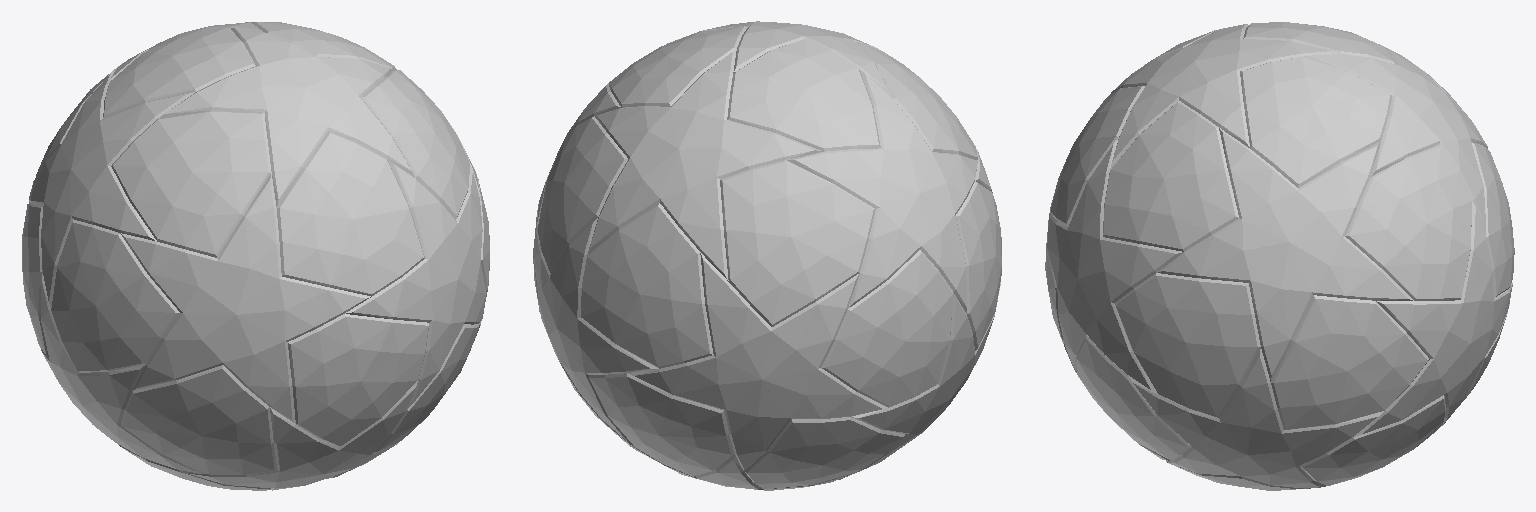
Rendered from ball.obj.
3 views of the same model, side by side, from view 1: azimuth 30°, elevation 25°; view 2: azimuth 150°, elevation 25°; view 3: azimuth 270°, elevation 25° (orthographic).
Parts seen in each view (by area): view 1: uploads_files_[number redacted]_toma+toma+toma+toma; view 2: uploads_files_[number redacted]_toma+toma+toma+toma; view 3: uploads_files_[number redacted]_toma+toma+toma+toma.
Boxes of the visible parts, box(x1,y1,x2,y2) form: uploads_files_[number redacted]_toma+toma+toma+toma: box(22, 22, 489, 490); uploads_files_[number redacted]_toma+toma+toma+toma: box(533, 21, 1001, 490); uploads_files_[number redacted]_toma+toma+toma+toma: box(1045, 22, 1514, 490).
Bounding box in the file's own units: 0.25 × 0.25 × 0.25.